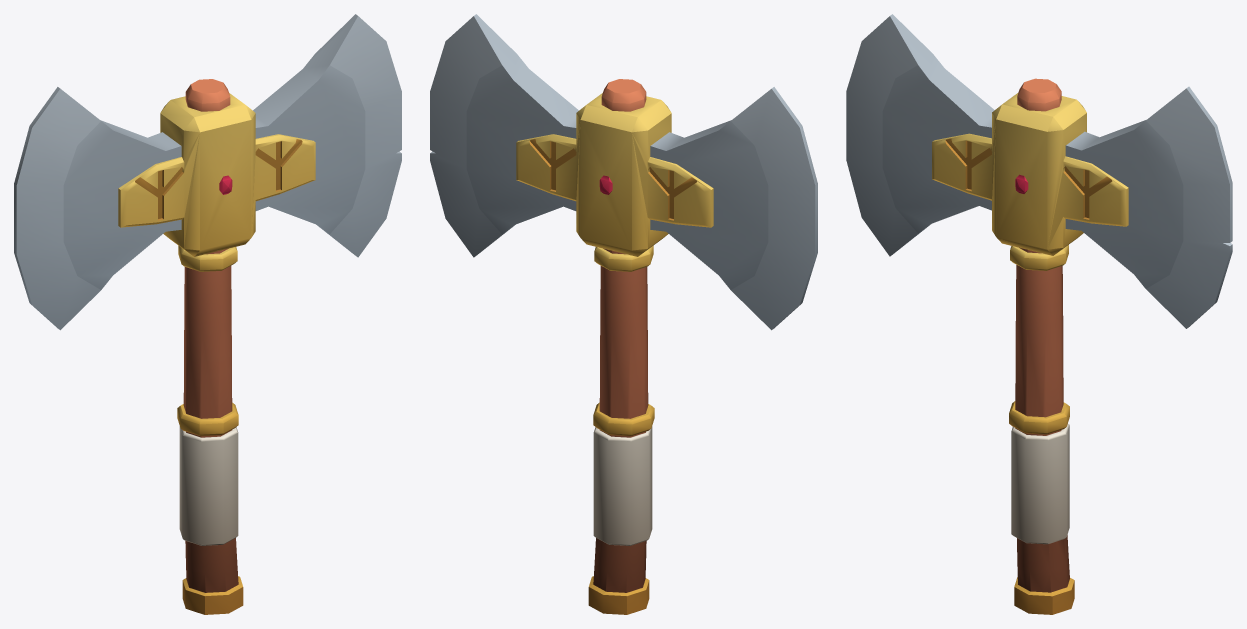
The model's file is battleaxe_gilded.glb.
3 renders of one model, left to right at view 1: azimuth 30°, elevation 25°; view 2: azimuth 150°, elevation 25°; view 3: azimuth 330°, elevation 25°, orthographic.
Visible parts, largest first — view 1: Item; view 2: Item; view 3: Item.
Boxes of the visible parts, x1,y1,x2,y2 form: Item: (14, 14, 401, 614); Item: (430, 14, 817, 614); Item: (846, 14, 1232, 614).
Size of the model in its own units: 1.5 by 2.08 by 0.276.
Materials: 4 (4 with a texture image).
